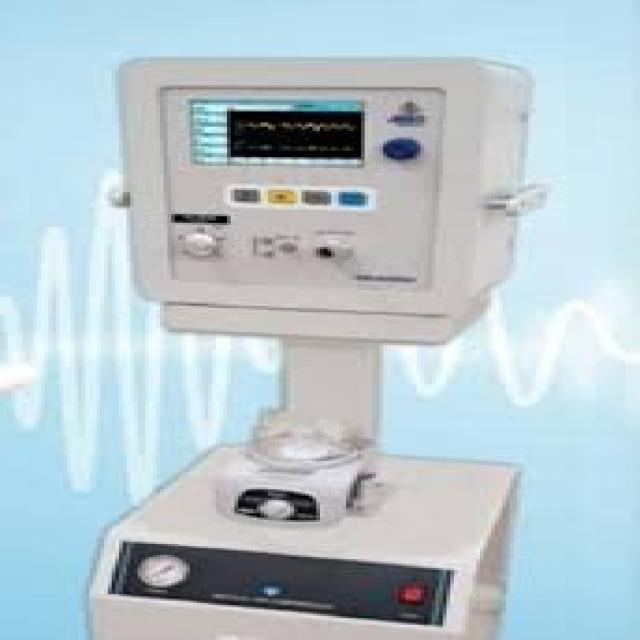cardiac_monitor: (120, 77, 510, 406)
